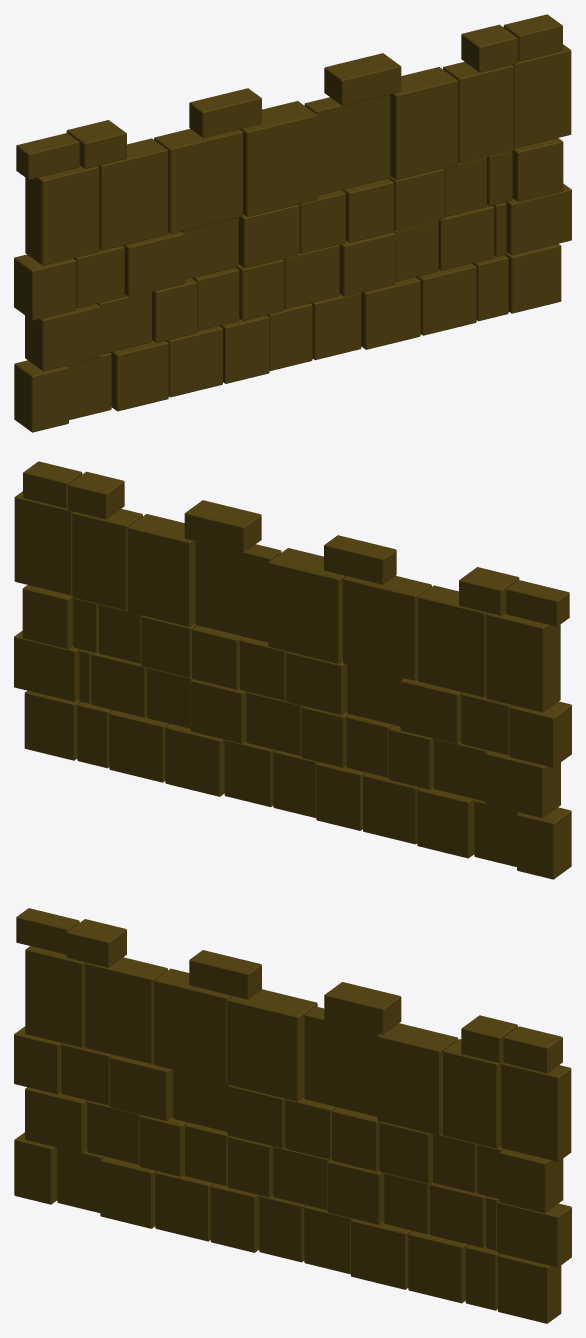
The model's file is randWall4.fbx.
3 renders of one model, top to bottom at view 1: azimuth 30°, elevation 25°; view 2: azimuth 150°, elevation 25°; view 3: azimuth 330°, elevation 25°, orthographic.
Parts seen in each view (by area): view 1: Wall.001; view 2: Wall.001; view 3: Wall.001.
Part boxes in pixels (x1,y1,x2,y2): Wall.001: [14, 14, 571, 432]; Wall.001: [14, 461, 571, 879]; Wall.001: [14, 908, 571, 1323].
Size of the model in its own units: 3055 by 1490 by 195.
